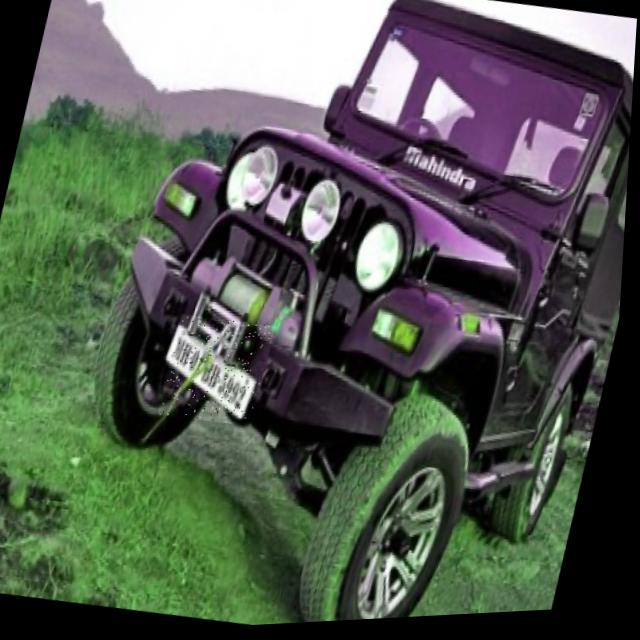license_plate: (161, 312, 280, 433)
